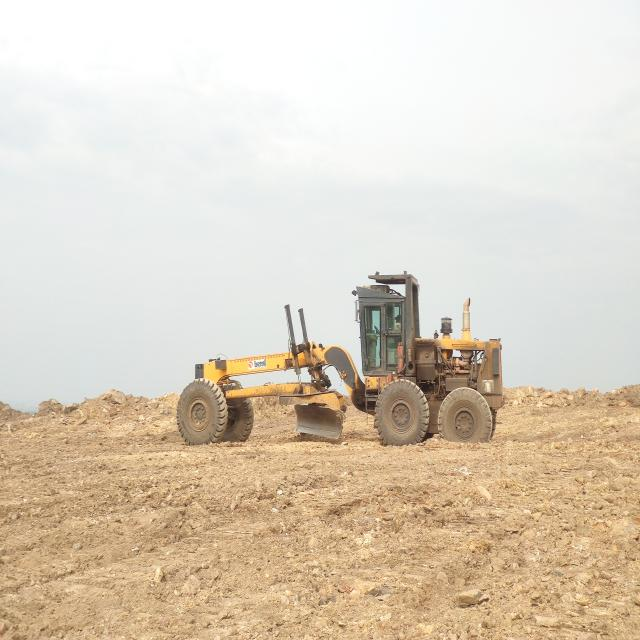buldozerpayloadergrader: (178, 272, 505, 445)
